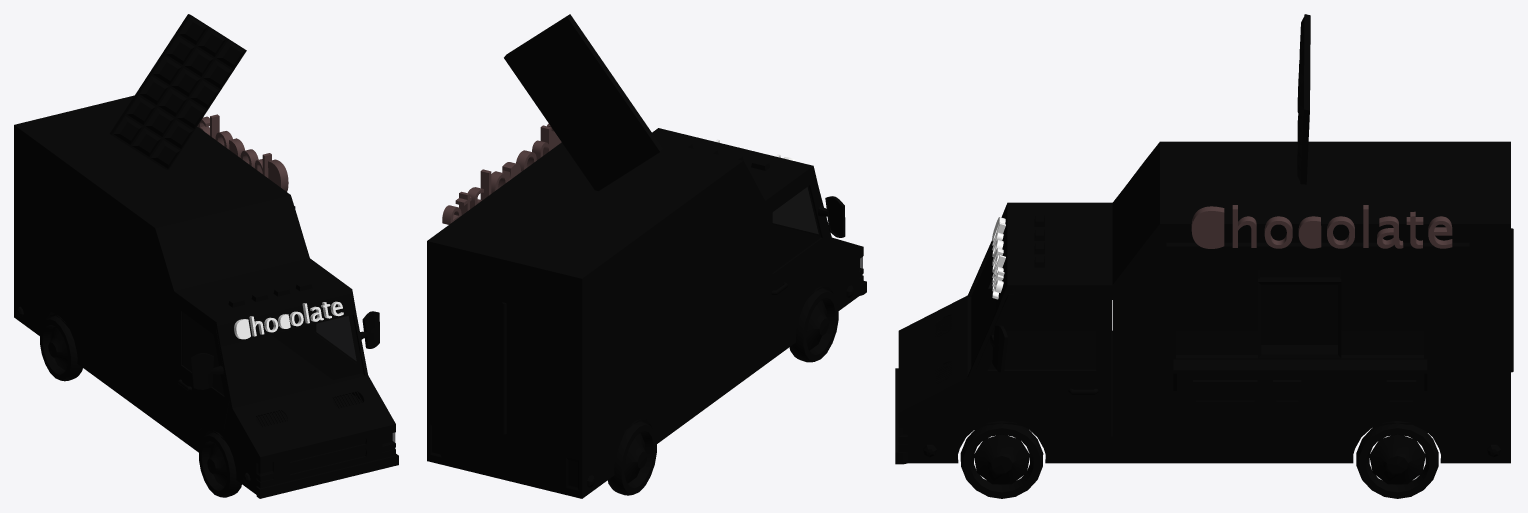
Rendered from Chocolate Truck.fbx.
The picture shows the model from 3 angles, left to right: view 1: azimuth 30°, elevation 25°; view 2: azimuth 150°, elevation 25°; view 3: azimuth 270°, elevation 25°; orthographic projection. The views are drawn at different scales.
Visible parts, largest first — view 1: Chocolate_Truck; view 2: Chocolate_Truck; view 3: Chocolate_Truck.
Boxes of the visible parts, <box> form: Chocolate_Truck: <box>14,14,398,498</box>; Chocolate_Truck: <box>427,14,866,498</box>; Chocolate_Truck: <box>895,14,1513,498</box>.
Size of the model in its own units: 2.78 by 5.2 by 6.34.
